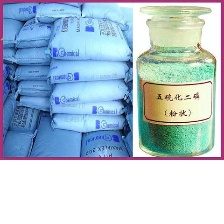insecticide: (136, 3, 217, 160)
